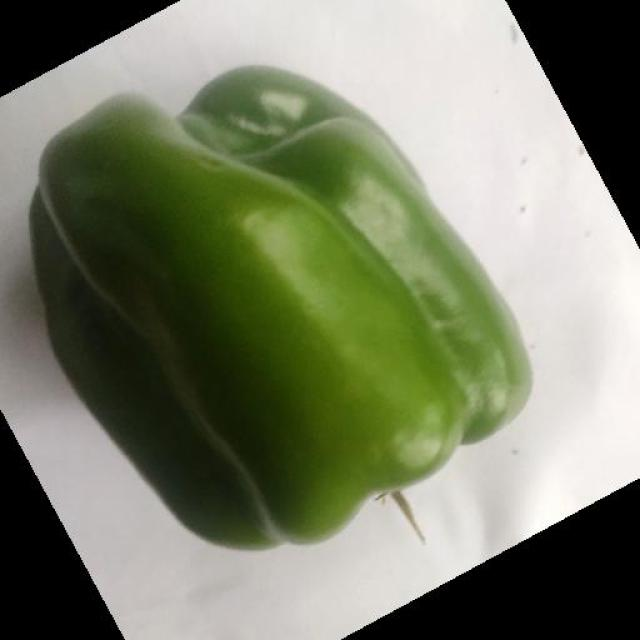Stale_Capsicum: (44, 185, 305, 554)
